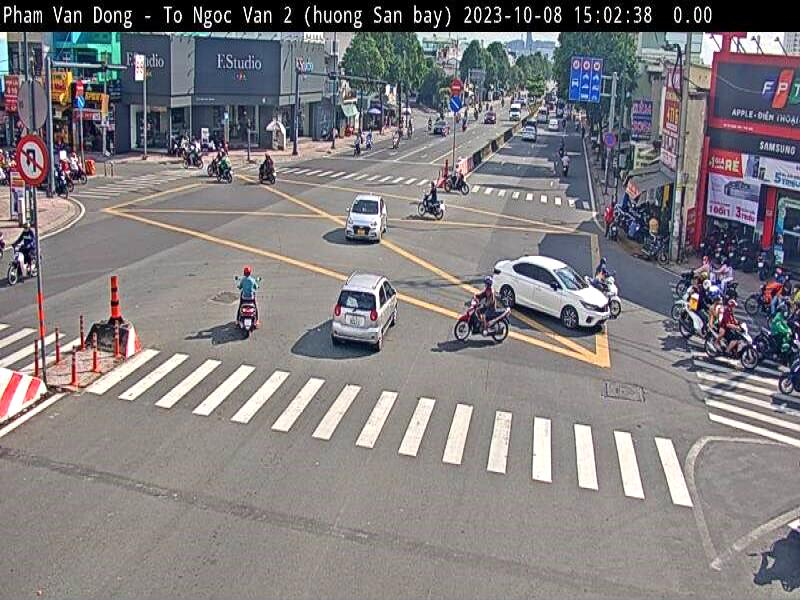car: (492, 257, 611, 330), (330, 270, 398, 351), (346, 192, 388, 239)
motorcycle: (706, 324, 759, 372), (457, 298, 510, 344), (9, 247, 42, 284), (778, 347, 800, 396), (680, 302, 705, 341), (756, 325, 780, 362), (604, 277, 624, 318), (238, 298, 258, 336), (746, 282, 769, 315), (419, 193, 445, 221), (444, 172, 471, 195), (76, 164, 90, 186)
